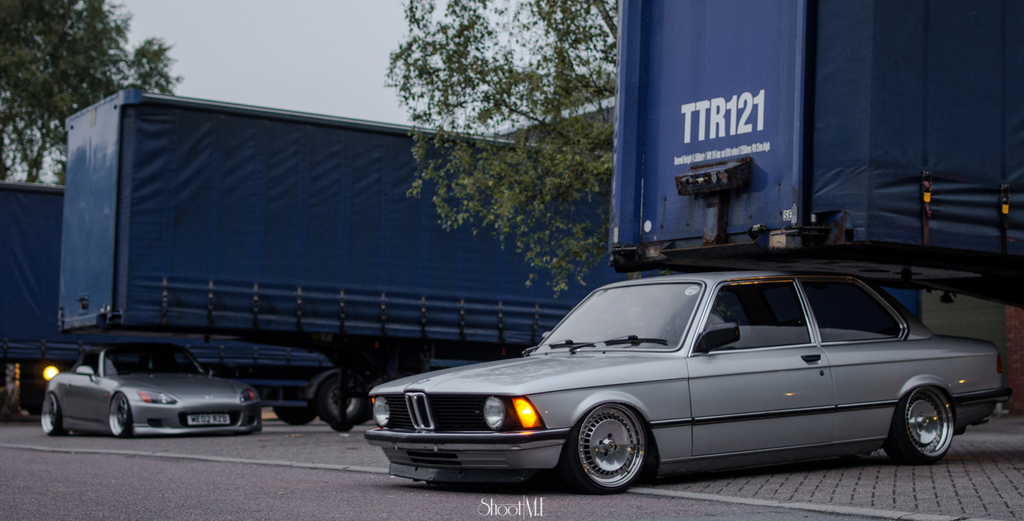Car: (343, 271, 1007, 499), (40, 343, 265, 439)
